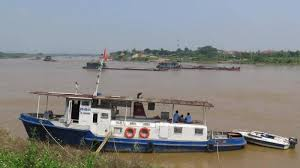tau_dansu: (25, 87, 254, 157), (235, 122, 296, 151)
